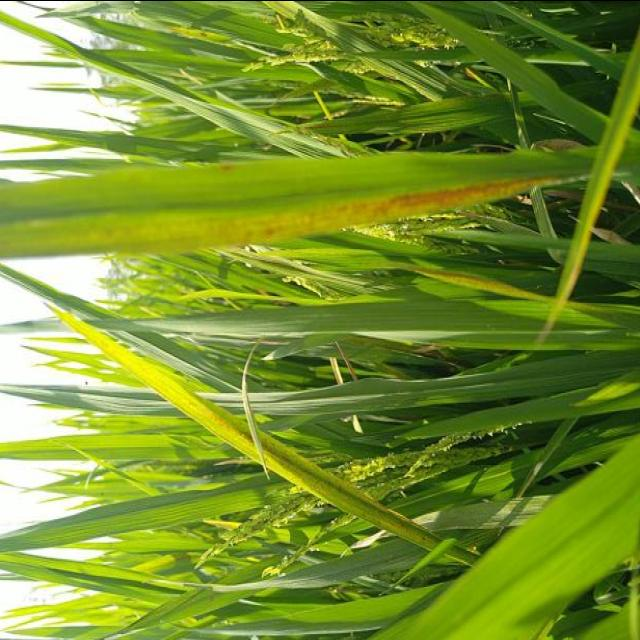Leaf Streak: (107, 344, 448, 551), (0, 179, 538, 258)
